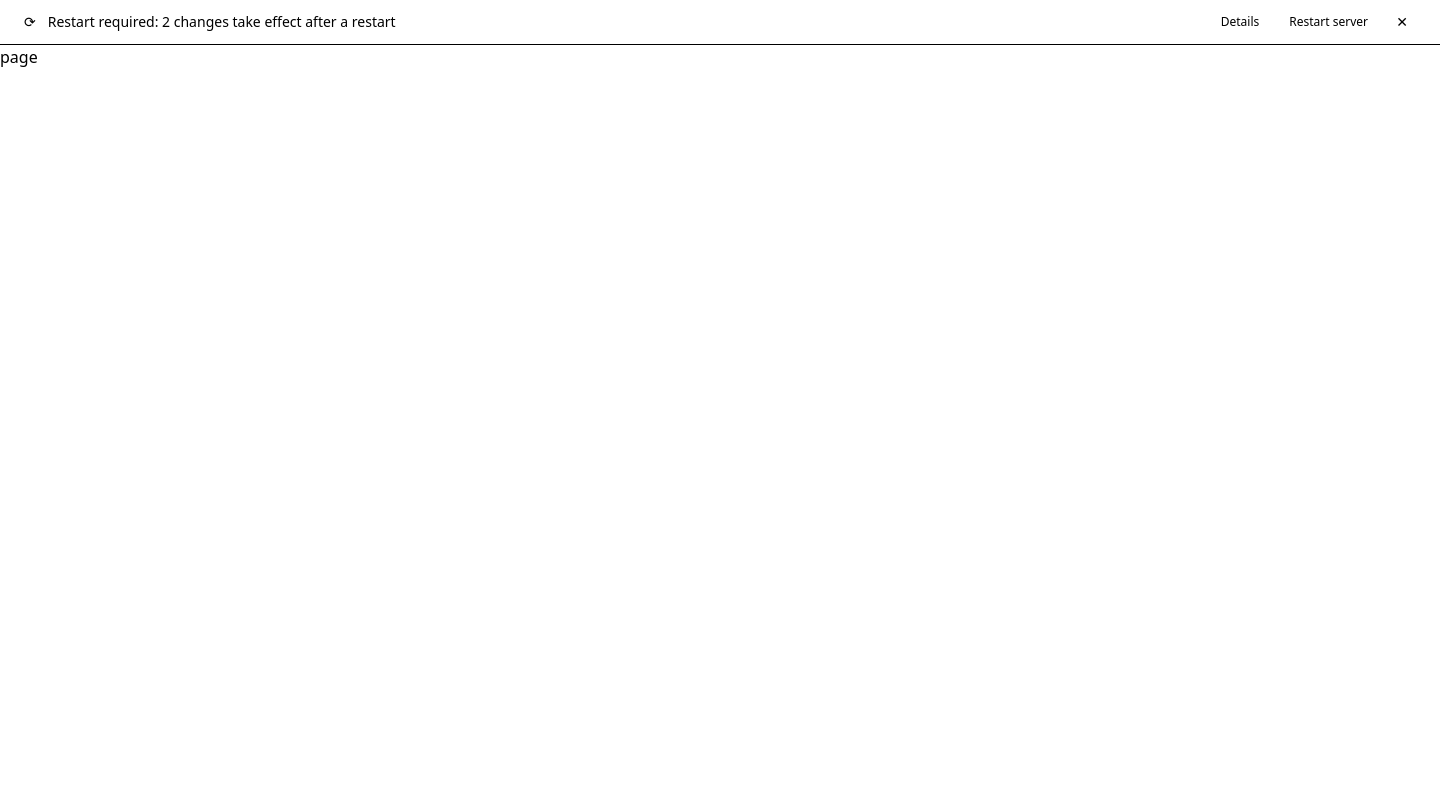
Scenario: Restarting the server › cancelling posts nothing
Click the button "Restart server". click: (1329, 22)
box: [1277,10,1380,34]
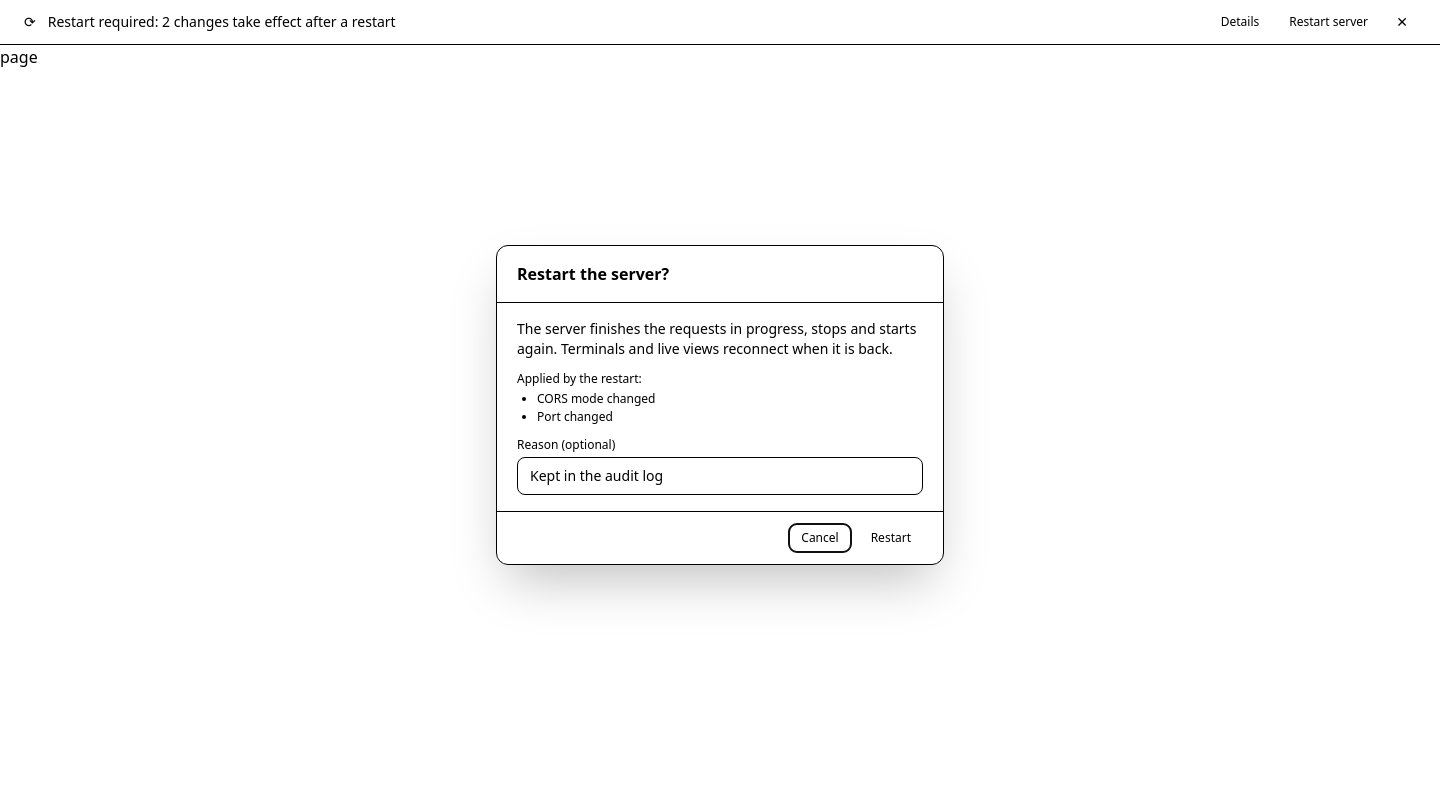
Click the button "Cancel". click: (820, 538)
box: [789,524,851,552]
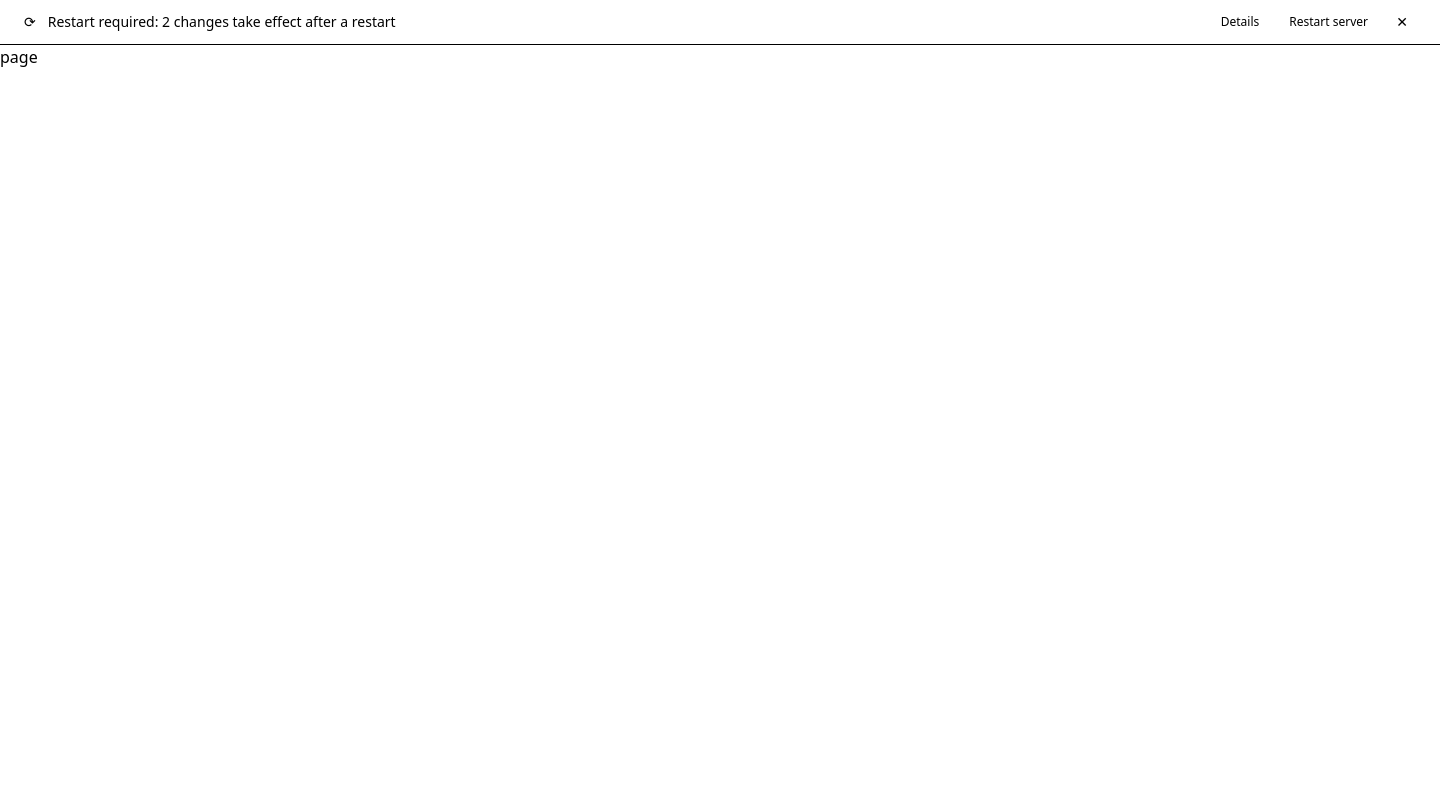
Check: the dialog is gone
